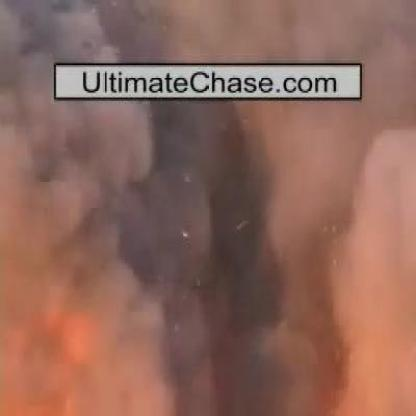-: (10, 110, 395, 378), (7, 2, 385, 64)
